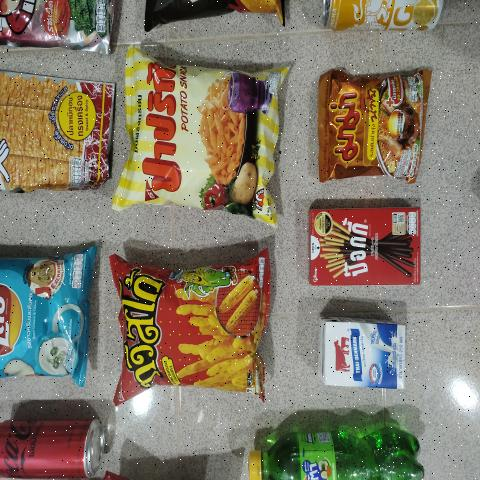coke_red: (0, 416, 106, 468)
fanta_green: (239, 422, 430, 480)
mama: (325, 72, 426, 184)
paprika: (130, 58, 278, 223)
pokki: (308, 209, 421, 279)
thai_denmark: (321, 319, 406, 390)
twisco: (122, 271, 264, 386)
